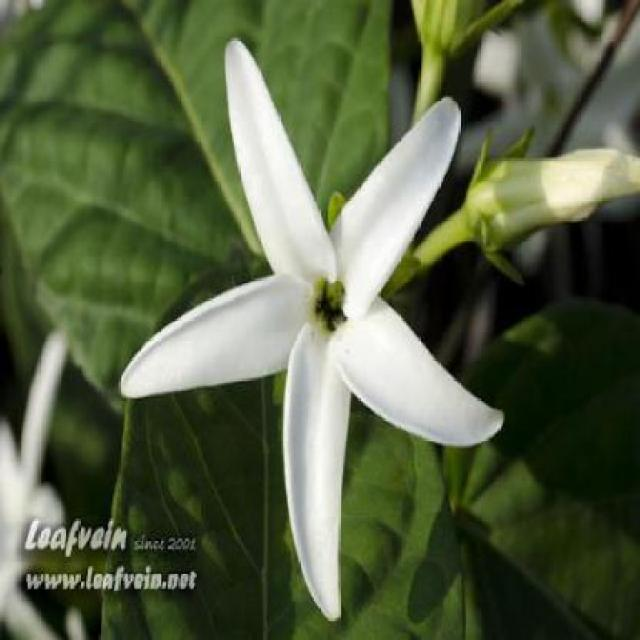flower: (118, 23, 508, 619)
